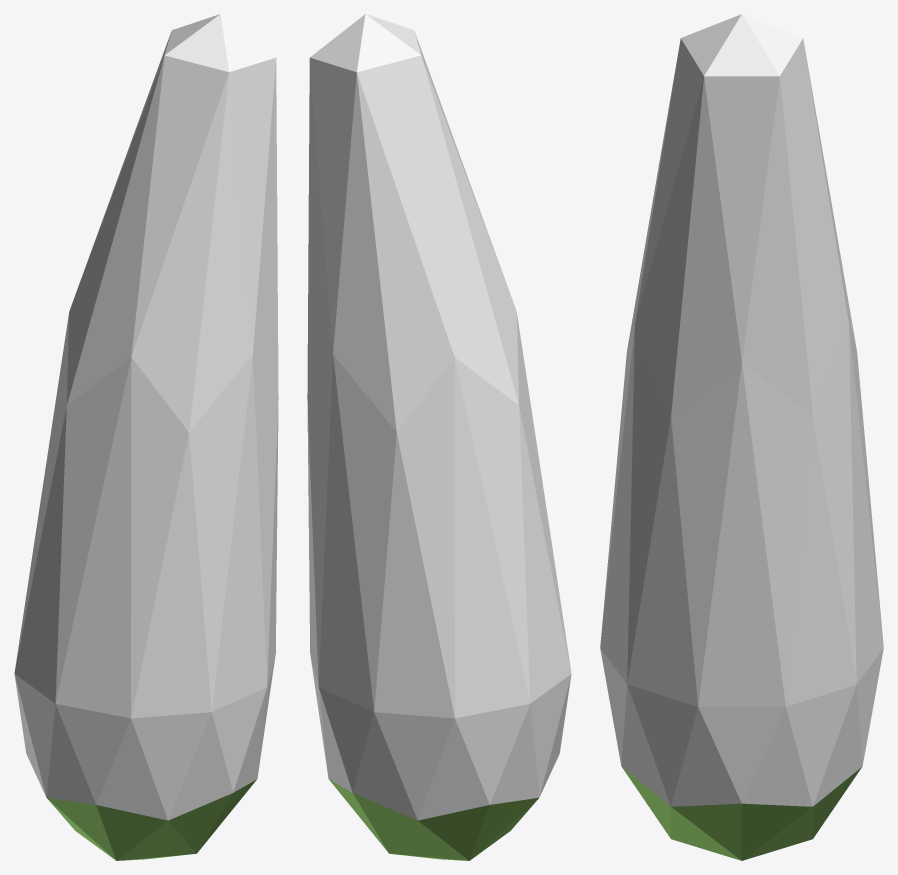
The model's file is Thuja_BushTree_m_Snow_09_LOD.fbx.
3 renders of one model, left to right at view 1: azimuth 30°, elevation 25°; view 2: azimuth 150°, elevation 25°; view 3: azimuth 270°, elevation 25°, orthographic. The views are drawn at different scales.
Parts seen in each view (by area): view 1: Thuja_BushTree_m_Snow_09_LOD0; view 2: Thuja_BushTree_m_Snow_09_LOD0; view 3: Thuja_BushTree_m_Snow_09_LOD0.
Boxes of the visible parts, left/top/right/bottom form: Thuja_BushTree_m_Snow_09_LOD0: left=14, top=14, right=278, bottom=860; Thuja_BushTree_m_Snow_09_LOD0: left=307, top=14, right=571, bottom=860; Thuja_BushTree_m_Snow_09_LOD0: left=600, top=14, right=883, bottom=860.
Size of what is drawn, in the model's own units: 120 by 412 by 120.
